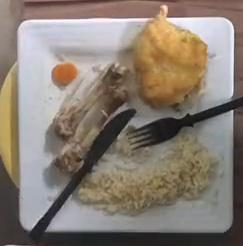carrots: (53, 63, 77, 85)
fish: (134, 18, 208, 110)
rice: (78, 131, 218, 215)
